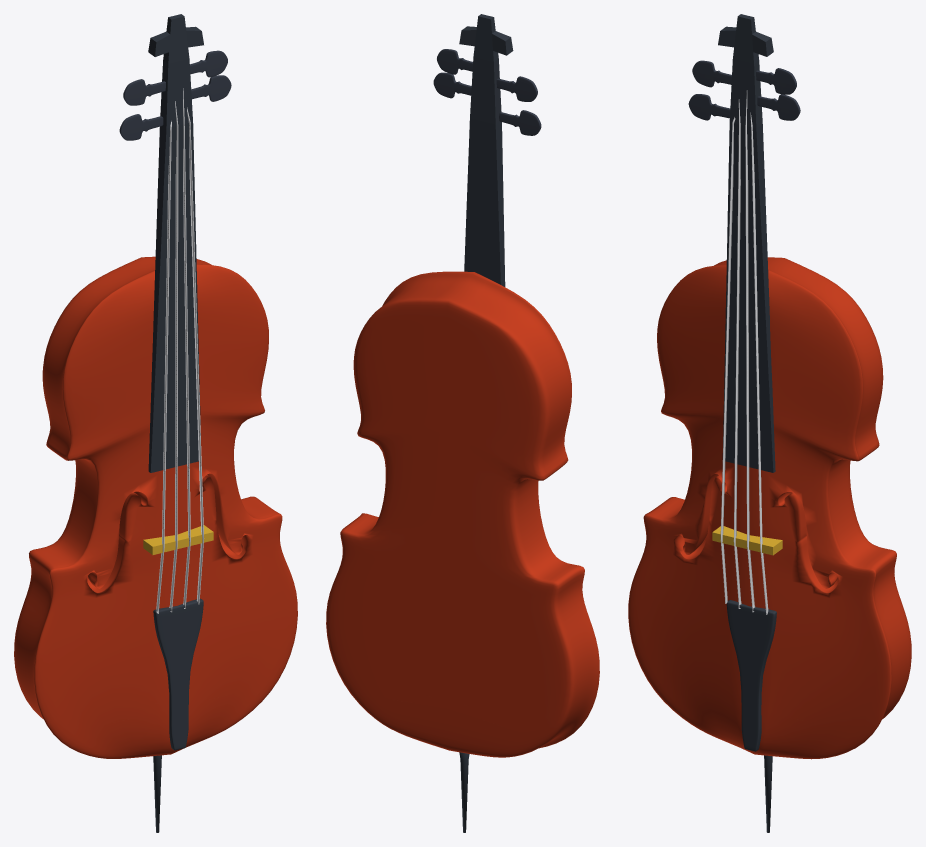
Rendered from CelloModel.glb.
3 views of the same model, side by side, from view 1: azimuth 30°, elevation 25°; view 2: azimuth 150°, elevation 25°; view 3: azimuth 330°, elevation 25° (orthographic). The views are drawn at different scales.
Visible parts, largest first — view 1: Plane, Plane.001, Strings, Plane.002, Keys, Cube; view 2: Plane, Plane.001, Keys, Cylinder; view 3: Plane, Plane.001, Strings, Plane.002, Keys, Cube.
Part boxes in pixels (x1,y1,x2,y2): Plane: [14, 256, 297, 758]; Plane.001: [148, 14, 203, 472]; Strings: [156, 88, 204, 613]; Plane.002: [153, 598, 203, 750]; Keys: [119, 50, 231, 140]; Cube: [143, 525, 213, 554]; Plane: [326, 271, 599, 757]; Plane.001: [459, 14, 513, 286]; Keys: [433, 49, 541, 135]; Cylinder: [459, 752, 469, 832]; Plane: [628, 257, 911, 759]; Plane.001: [718, 14, 775, 472]; Strings: [720, 90, 768, 614]; Plane.002: [726, 600, 776, 751]; Keys: [688, 60, 800, 120]; Cube: [712, 526, 782, 555].
Size of the model in its own units: 3.37 by 10.16 by 0.9894.
1 material, 1 textured.
